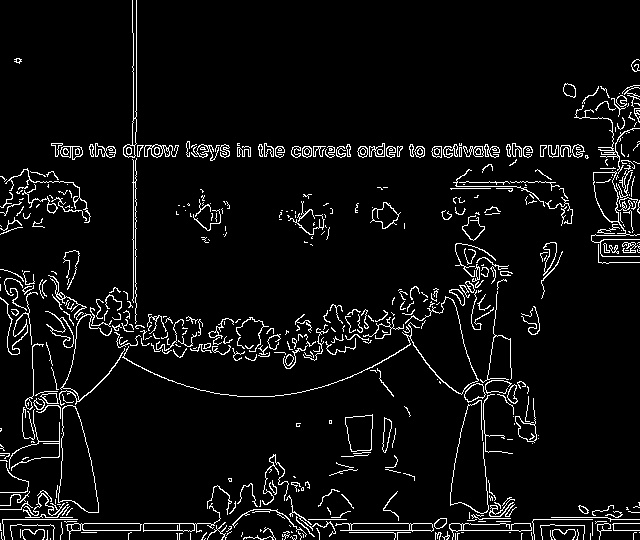down: (457, 210, 489, 245)
left: (185, 197, 226, 236), (290, 204, 328, 240)
right: (362, 195, 404, 235)
